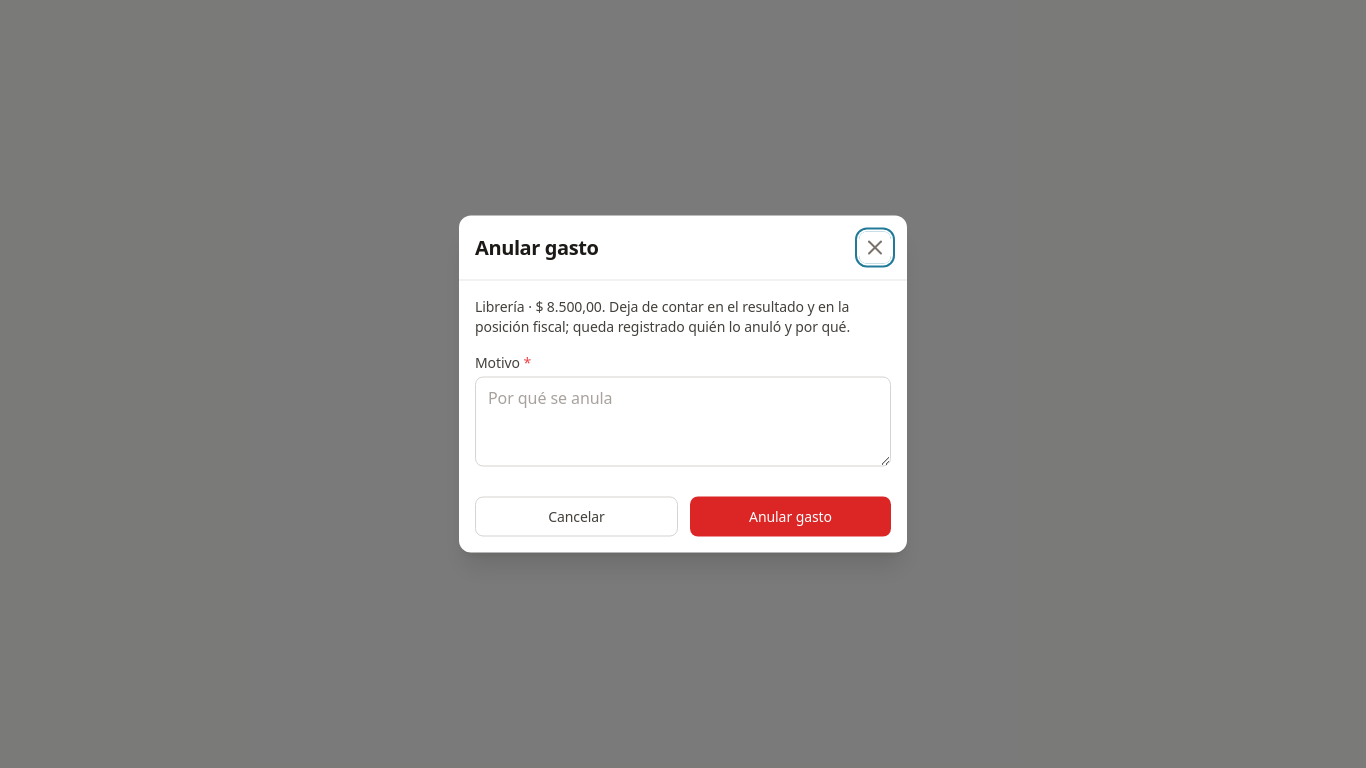
ModalAnularGasto › el rechazo del server se muestra y no se cierra
Type "Error" into the text box labelled "Motivo *" at (683,422), box [475, 376, 891, 466]
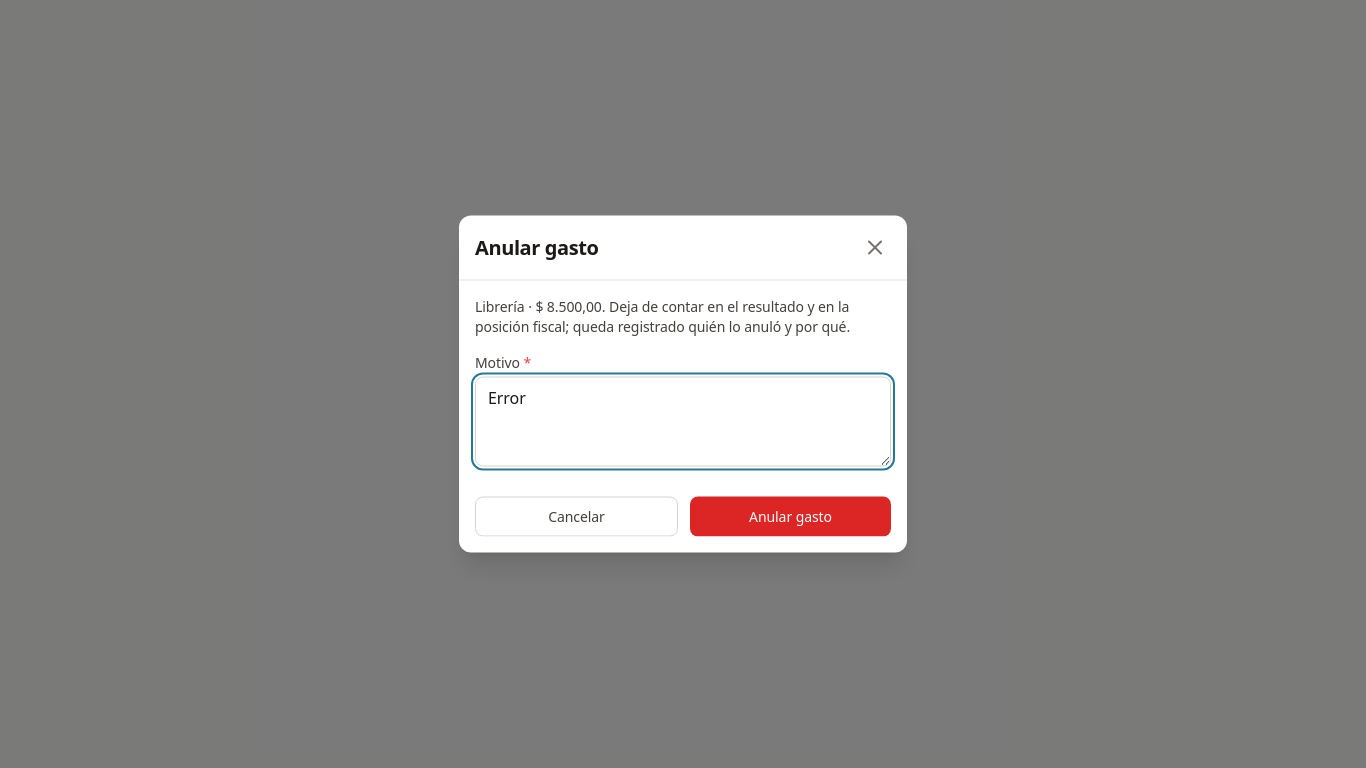
Click the button "Anular gasto" at (790,516), box [690, 496, 891, 536]
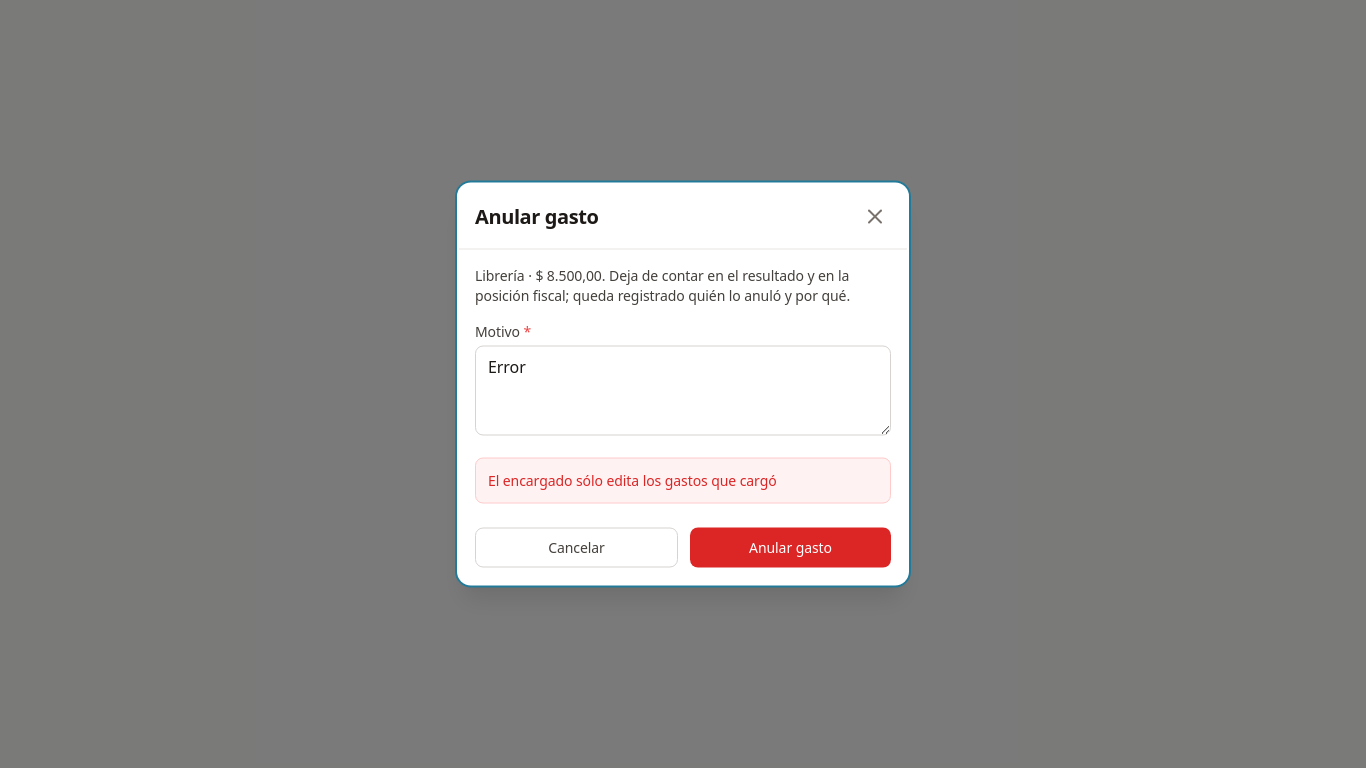
Expected: the text "El encargado sólo edita los gastos que cargó" is shown, [488, 470, 777, 490]
